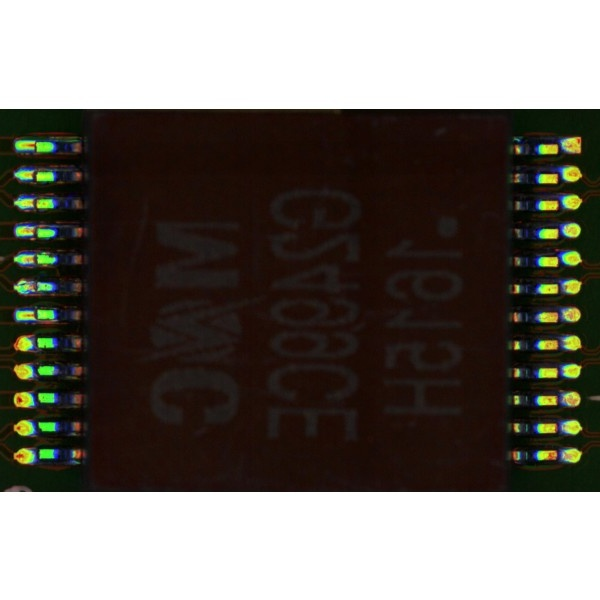Bad_podu: (22, 311, 46, 320), (23, 228, 43, 236), (24, 172, 45, 179), (24, 255, 43, 262), (24, 143, 44, 148), (27, 284, 43, 290)
